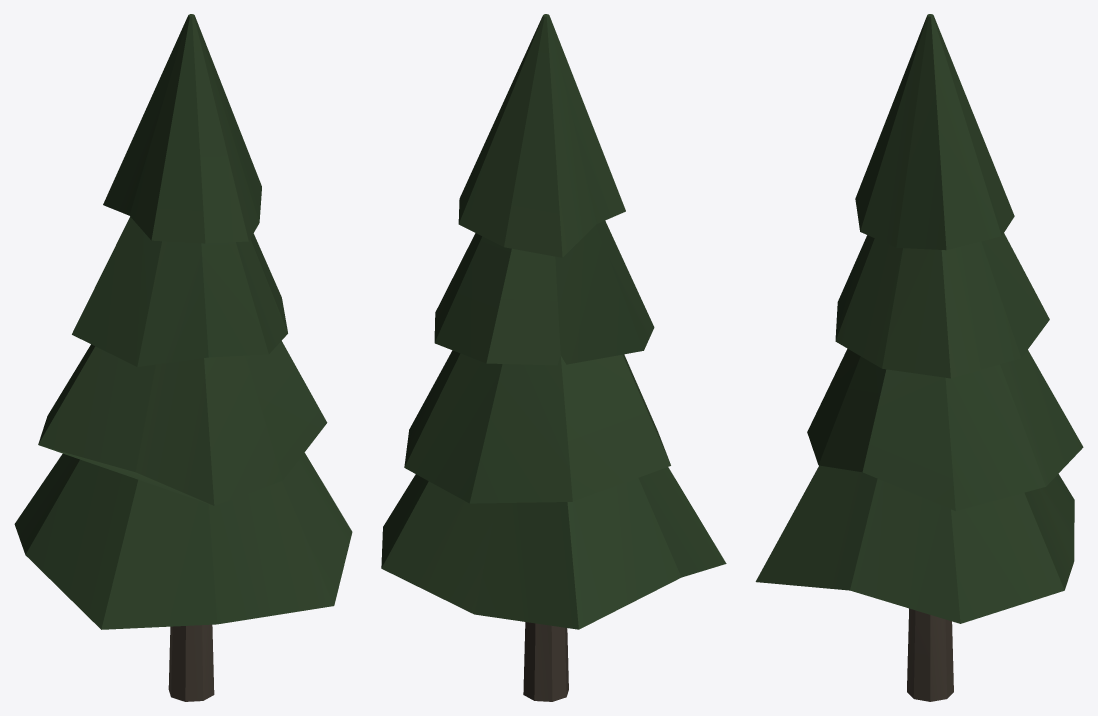
Rendered from tree_pine_01.glb.
3 renders of one model, left to right at view 1: azimuth 30°, elevation 25°; view 2: azimuth 150°, elevation 25°; view 3: azimuth 270°, elevation 25°, orthographic.
Visible parts, largest first — view 1: tree_pine_01; view 2: tree_pine_01; view 3: tree_pine_01.
Boxes of the visible parts, left/top/right/bottom form: tree_pine_01: left=14, top=14, right=352, bottom=701; tree_pine_01: left=381, top=14, right=726, bottom=701; tree_pine_01: left=755, top=14, right=1083, bottom=701.
Bounding box in the file's own units: 4.02 × 8.7 × 3.83.
